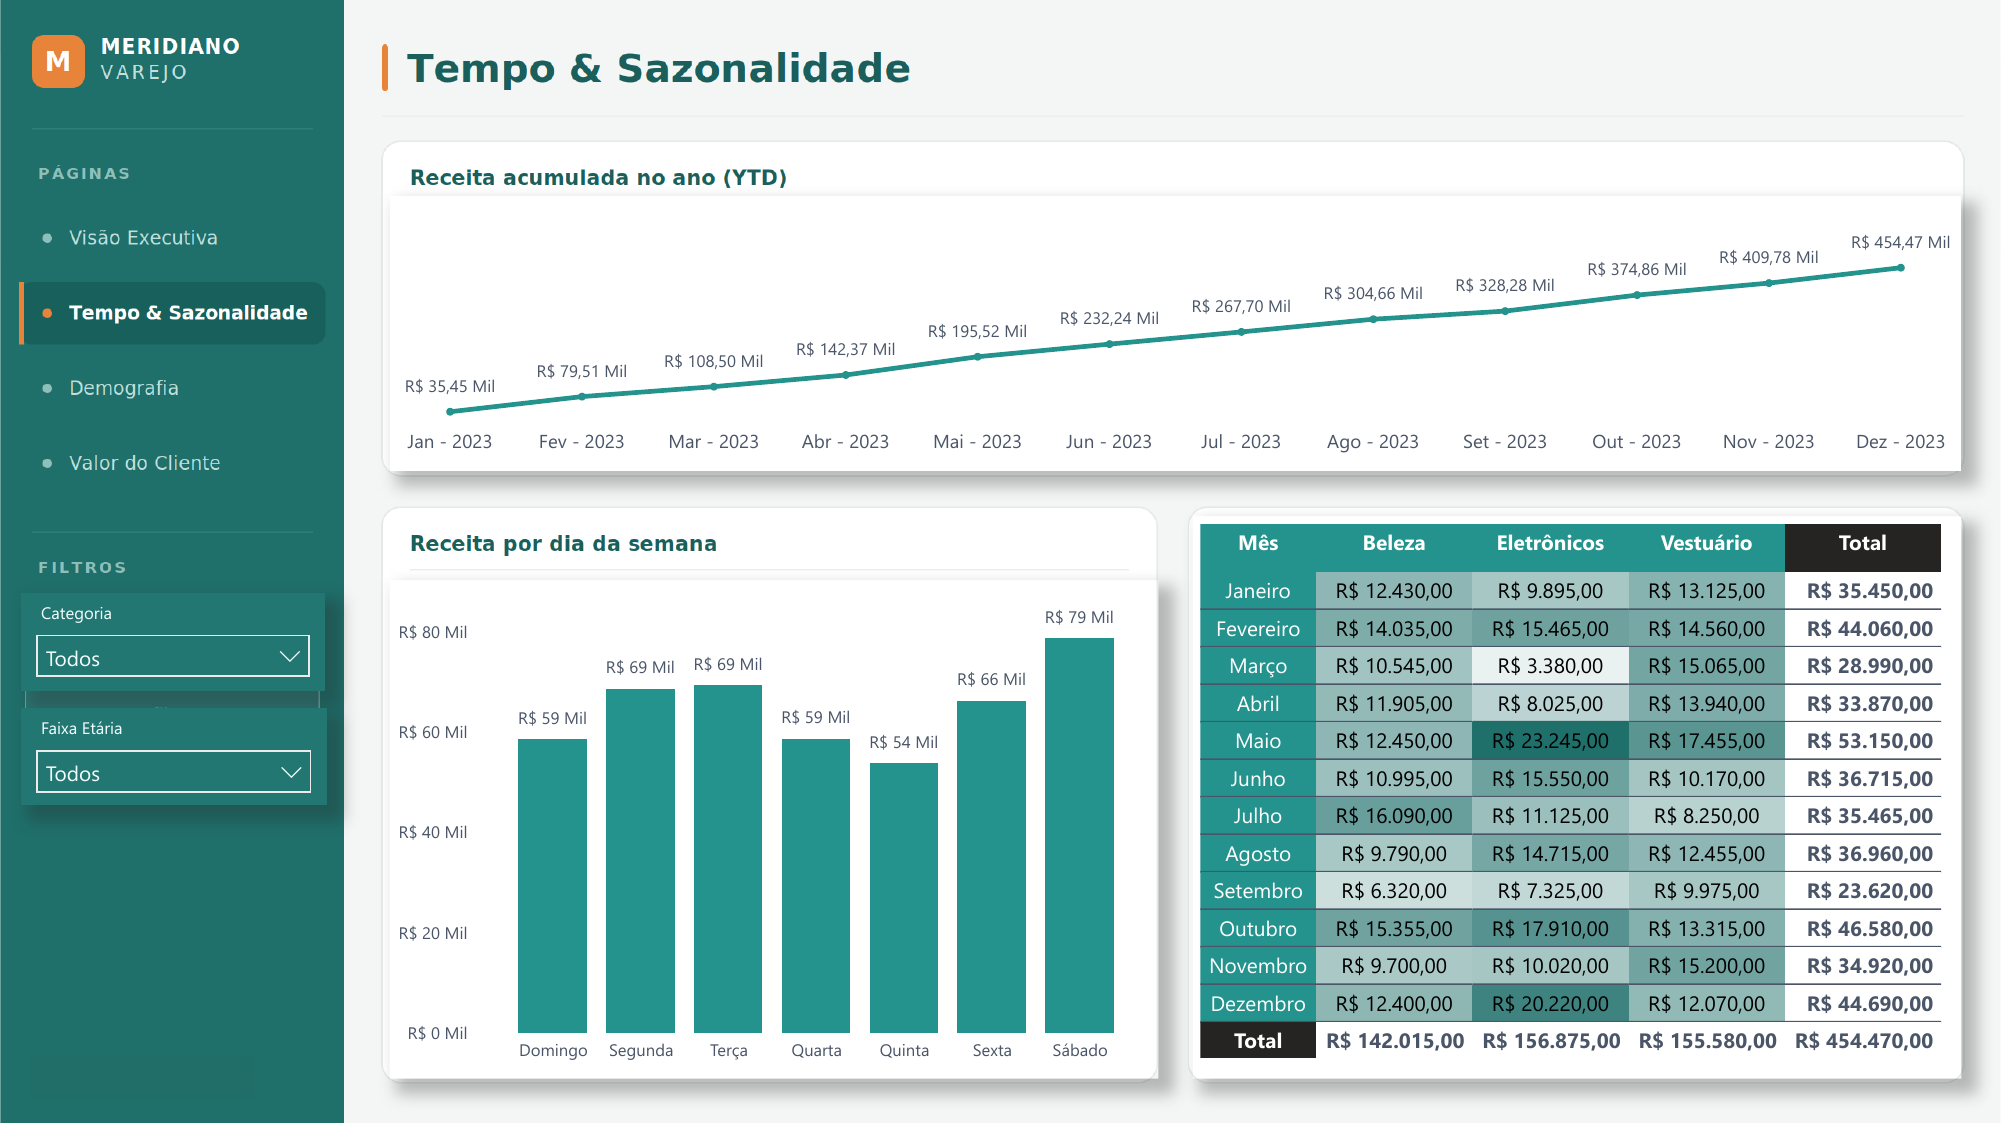

The page's visual inventory and layout, read from the dashboard file:
{"tool":"powerbi","page":{"name":"Tempo & Sazonalidade","canvas":[1280,720],"ordinal":1},"visuals":[{"type":"lineChart","fields":{"Y":["_Medidas.Receita Acumulada"],"Category":["dCalendario.MesAno"]},"box":[249.1,125.5,1006.4,175.5],"z":0},{"type":"columnChart","fields":{"Category":["dCalendario.NomeDia"],"Y":["_Medidas.Receita Total"]},"box":[248.8,371.2,492.5,318.8],"z":1000},{"type":"pivotTable","fields":{"Rows":["dCalendario.NomeMes"],"Columns":["fVendas.Categoria Produto"],"Values":["_Medidas.Receita Total"]},"box":[762.7,330,492.7,360],"z":2000},{"type":"actionButton","box":[10.6,130.6,197.6,41.8],"z":3000},{"type":"actionButton","box":[10.6,180.6,197.6,41.8],"z":4000},{"type":"actionButton","box":[10.6,227.6,197.6,41.8],"z":5000},{"type":"actionButton","box":[10.6,275.3,197.6,41.8],"z":6000},{"type":"slicer","fields":{"Values":["fVendas.Categoria Produto"]},"box":[13.2,379.5,195.3,62.6],"z":7000},{"type":"slicer","fields":{"Values":["fVendas.Faixa Etária"]},"box":[13.3,452.7,195.3,62.7],"z":8000},{"type":"shape","box":[18.8,675.6,143.1,27.5],"z":9000}]}

Visuals, with their boxes on the page's 1280x720 design canvas (x1, y1, x2, y2). These are canvas units, not pixel positions in the 2001x1123 screenshot, which may show the page scaled, cropped or inside an application window:
lineChart - _Medidas.Receita Acumulada x dCalendario.MesAno: x1=249, y1=126, x2=1256, y2=301
columnChart - dCalendario.NomeDia x _Medidas.Receita Total: x1=249, y1=371, x2=741, y2=690
pivotTable - dCalendario.NomeMes x fVendas.Categoria Produto: x1=763, y1=330, x2=1255, y2=690
actionButton: x1=11, y1=131, x2=208, y2=172
actionButton: x1=11, y1=181, x2=208, y2=222
actionButton: x1=11, y1=228, x2=208, y2=269
actionButton: x1=11, y1=275, x2=208, y2=317
slicer - fVendas.Categoria Produto: x1=13, y1=380, x2=208, y2=442
slicer - fVendas.Faixa Etária: x1=13, y1=453, x2=209, y2=515
shape: x1=19, y1=676, x2=162, y2=703
